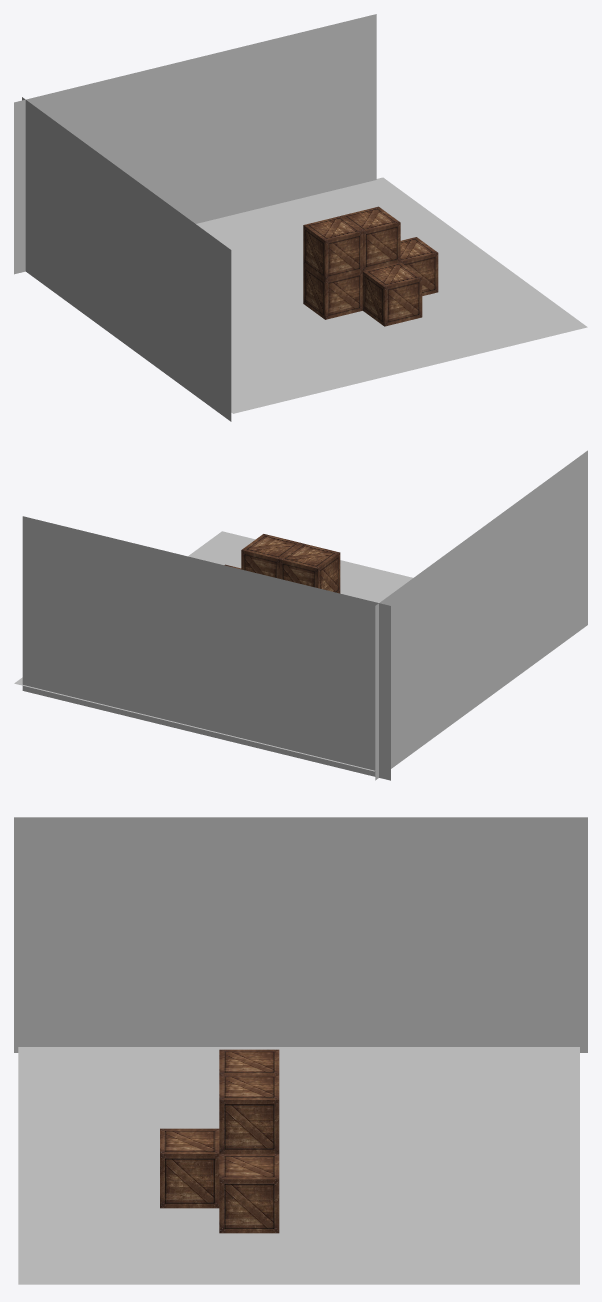
The model's file is WoodenBox.fbx.
3 renders of one model, top to bottom at view 1: azimuth 30°, elevation 25°; view 2: azimuth 150°, elevation 25°; view 3: azimuth 270°, elevation 25°, orthographic. The views are drawn at different scales.
Parts seen in each view (by area): view 1: Plane.001, Plane, Cube, Cube.005, Cube.004, Cube.002, Cube.003; view 2: Plane.001, Plane, Cube.005, Cube.002; view 3: Plane.001, Plane, Cube.003, Cube.002, Cube, Cube.005.
Boxes of the visible parts, box(x1,y1,x2,y2) form: Plane.001: box(14, 14, 376, 421); Plane: box(196, 177, 587, 413); Cube: box(362, 262, 422, 326); Cube.005: box(303, 216, 362, 280); Cube.004: box(303, 264, 362, 319); Cube.002: box(341, 206, 400, 271); Cube.003: box(400, 237, 438, 295); Plane.001: box(22, 450, 587, 780); Plane: box(14, 531, 412, 771); Cube.005: box(280, 543, 340, 593); Cube.002: box(241, 534, 301, 578); Plane.001: box(14, 817, 587, 1052); Plane: box(18, 1047, 579, 1284); Cube.003: box(219, 1154, 279, 1233); Cube.002: box(219, 1074, 279, 1153); Cube: box(160, 1128, 219, 1208); Cube.005: box(219, 1049, 279, 1074).
Bounding box in the file's own units: 1958 × 869 × 1918.
